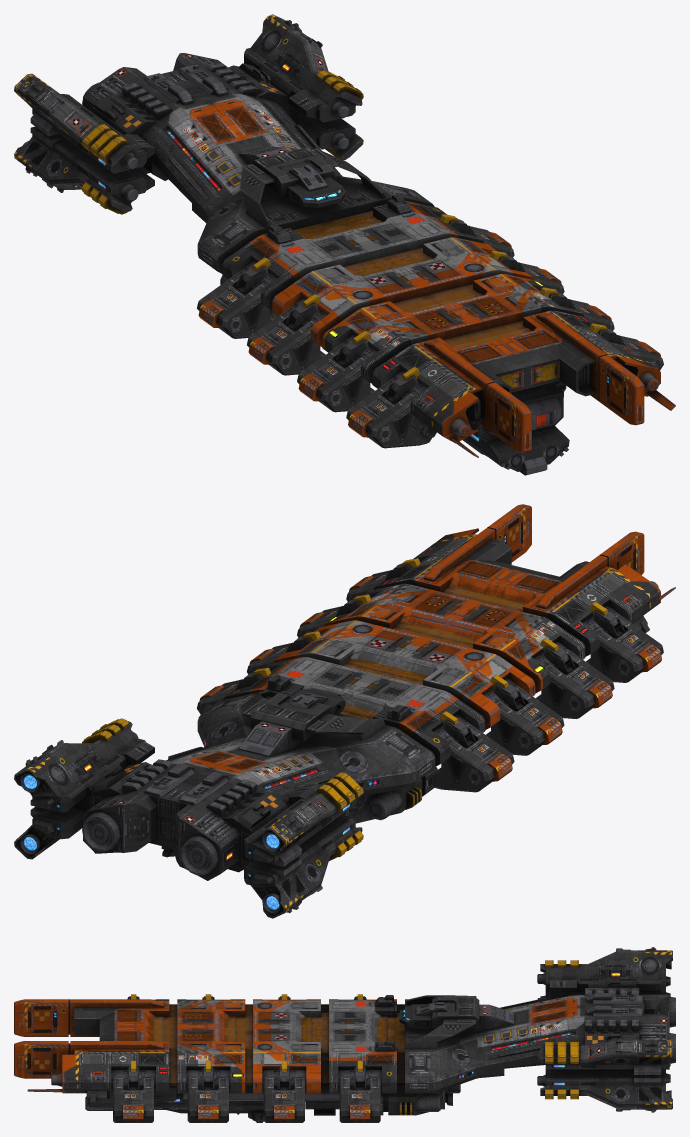
Rendered from Freighter_RF5.FBX.
3 renders of one model, top to bottom at view 1: azimuth 30°, elevation 25°; view 2: azimuth 150°, elevation 25°; view 3: azimuth 270°, elevation 25°, orthographic. The views are drawn at different scales.
Parts seen in each view (by area): view 1: Freighter_RF5, Freighter_RF5-Container-A8, Freighter_RF5-Container-A6, Freighter_RF5-Container-A5, Freighter_RF5-Container-A7, Freighter_RF5-Container-A4, Freighter_RF5-Container-A2, Freighter_RF5-Container-A1, Freighter_RF5-Container-A3; view 2: Freighter_RF5, Freighter_RF5-Container-A5, Freighter_RF5-Container-A7, Freighter_RF5-Container-A6, Freighter_RF5-Container-A8, Freighter_RF5-Container-A1, Freighter_RF5-Container-A4, Freighter_RF5-Container-A2, Freighter_RF5-Container-A3; view 3: Freighter_RF5, Freighter_RF5-Container-A2, Freighter_RF5-Container-A3, Freighter_RF5-Container-A1, Freighter_RF5-Container-A4.
Part boxes in pixels (x1,y1,x2,y2): Freighter_RF5: (14, 14, 675, 475); Freighter_RF5-Container-A8: (346, 367, 427, 448); Freighter_RF5-Container-A6: (247, 294, 325, 375); Freighter_RF5-Container-A5: (197, 257, 275, 338); Freighter_RF5-Container-A7: (297, 331, 374, 412); Freighter_RF5-Container-A4: (589, 323, 663, 370); Freighter_RF5-Container-A2: (490, 250, 564, 293); Freighter_RF5-Container-A1: (440, 214, 514, 257); Freighter_RF5-Container-A3: (540, 287, 614, 330); Freighter_RF5: (14, 504, 675, 918); Freighter_RF5-Container-A5: (432, 711, 514, 792); Freighter_RF5-Container-A7: (535, 638, 614, 718); Freighter_RF5-Container-A6: (486, 674, 564, 755); Freighter_RF5-Container-A8: (586, 602, 663, 682); Freighter_RF5-Container-A1: (197, 667, 271, 714); Freighter_RF5-Container-A4: (346, 558, 420, 601); Freighter_RF5-Container-A2: (247, 631, 321, 674); Freighter_RF5-Container-A3: (297, 594, 371, 637); Freighter_RF5: (14, 947, 675, 1122); Freighter_RF5-Container-A2: (263, 1060, 304, 1122); Freighter_RF5-Container-A3: (187, 1060, 228, 1122); Freighter_RF5-Container-A1: (339, 1060, 380, 1122); Freighter_RF5-Container-A4: (113, 1060, 153, 1122).
Bounding box in the file's own units: 2921 × 1504 × 7343.
Materials: 1 (1 with a texture image).
